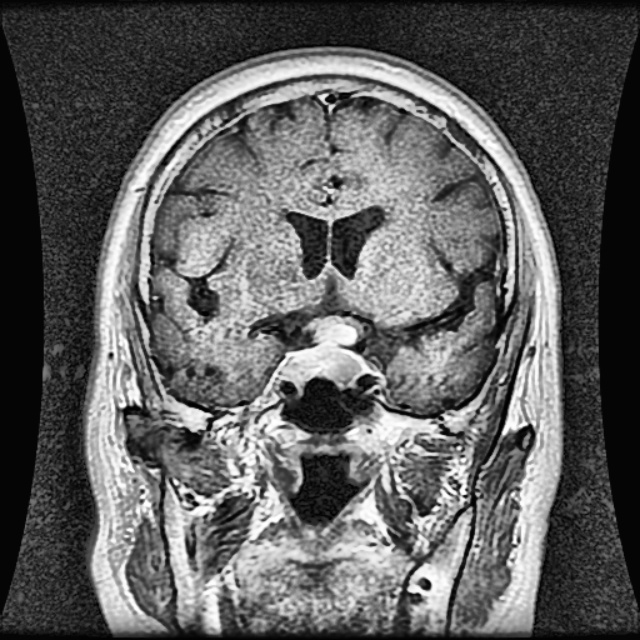Pituitary: (284, 318, 359, 379)
